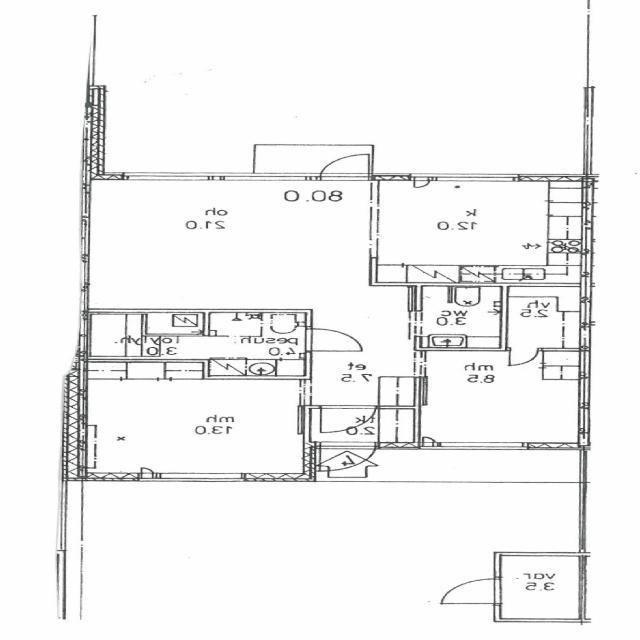door: (320, 441, 378, 476), (321, 406, 377, 436), (320, 152, 369, 182), (444, 580, 502, 604), (302, 329, 358, 351), (510, 348, 540, 365)
